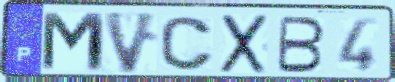4: (335, 16, 380, 74)
B: (274, 14, 328, 75)
C: (158, 15, 217, 73)
M: (38, 10, 107, 75)
V: (101, 10, 161, 76)
X: (218, 13, 271, 76)
